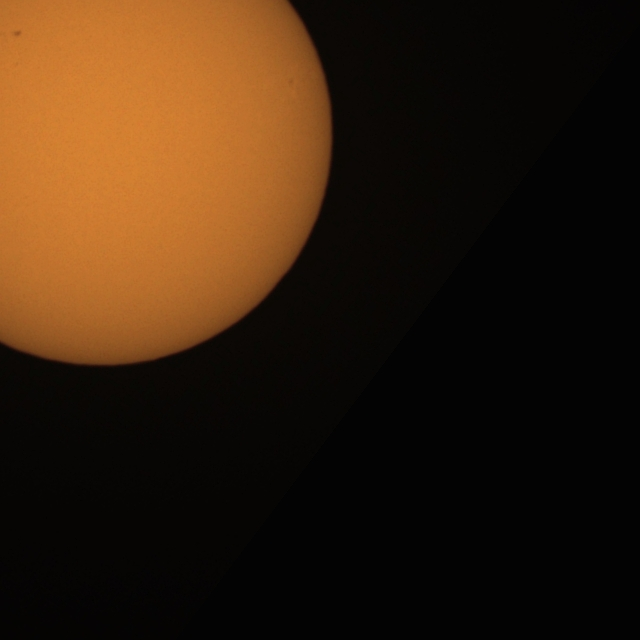sunspot: (11, 29, 23, 38)
